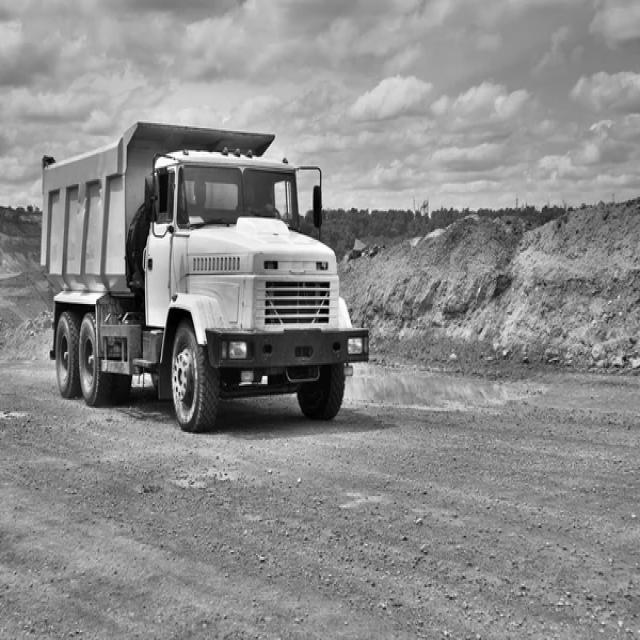Truck: (41, 122, 369, 431)
